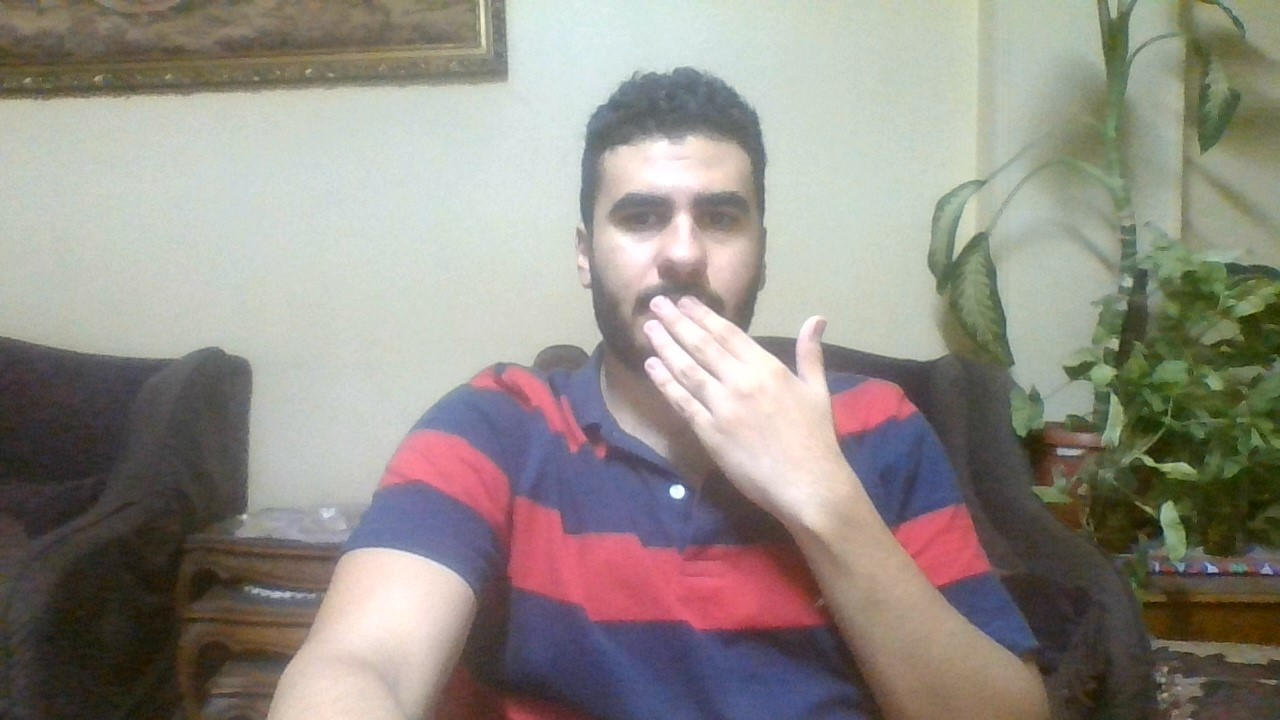thankyou: (630, 284, 853, 516)
